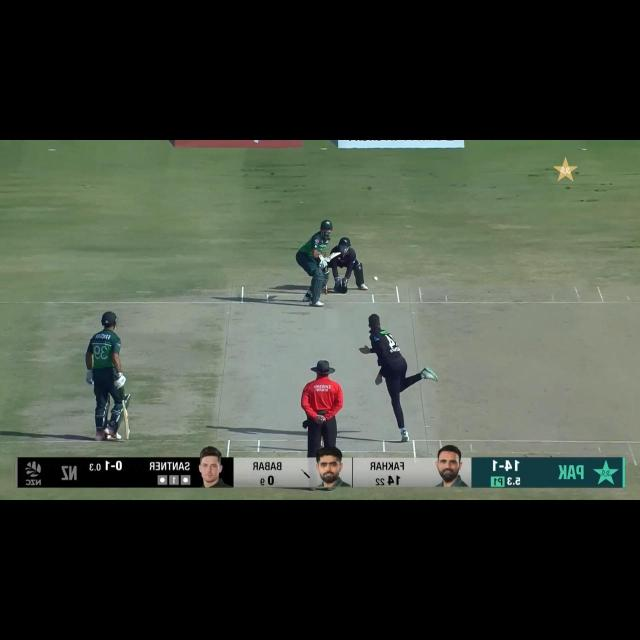bat: (121, 405, 134, 439), (326, 251, 342, 261)
toe: (125, 427, 132, 440), (331, 252, 341, 256)
